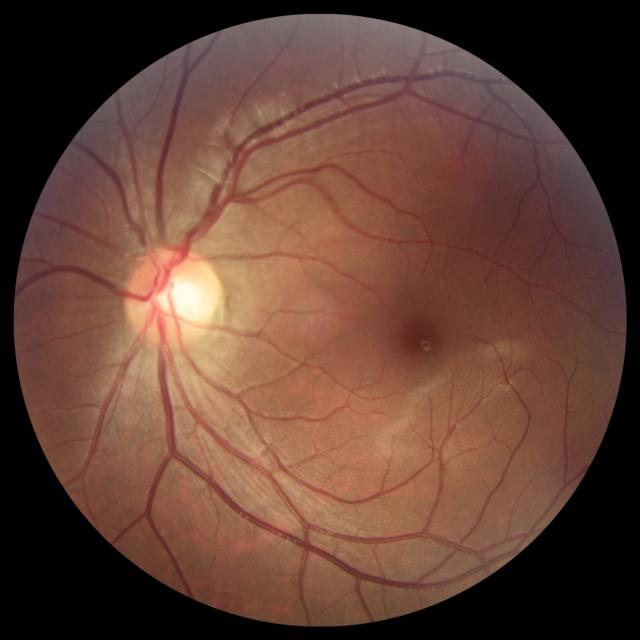OC: (157, 272, 205, 322)
OD: (124, 247, 220, 346)
